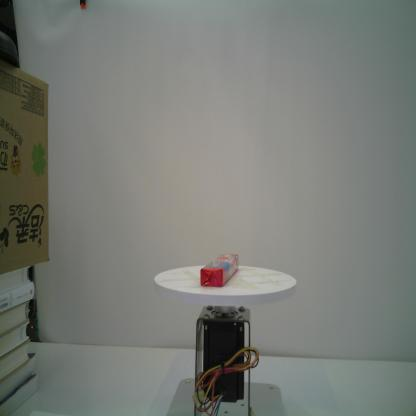Candy: (199, 251, 239, 288)
